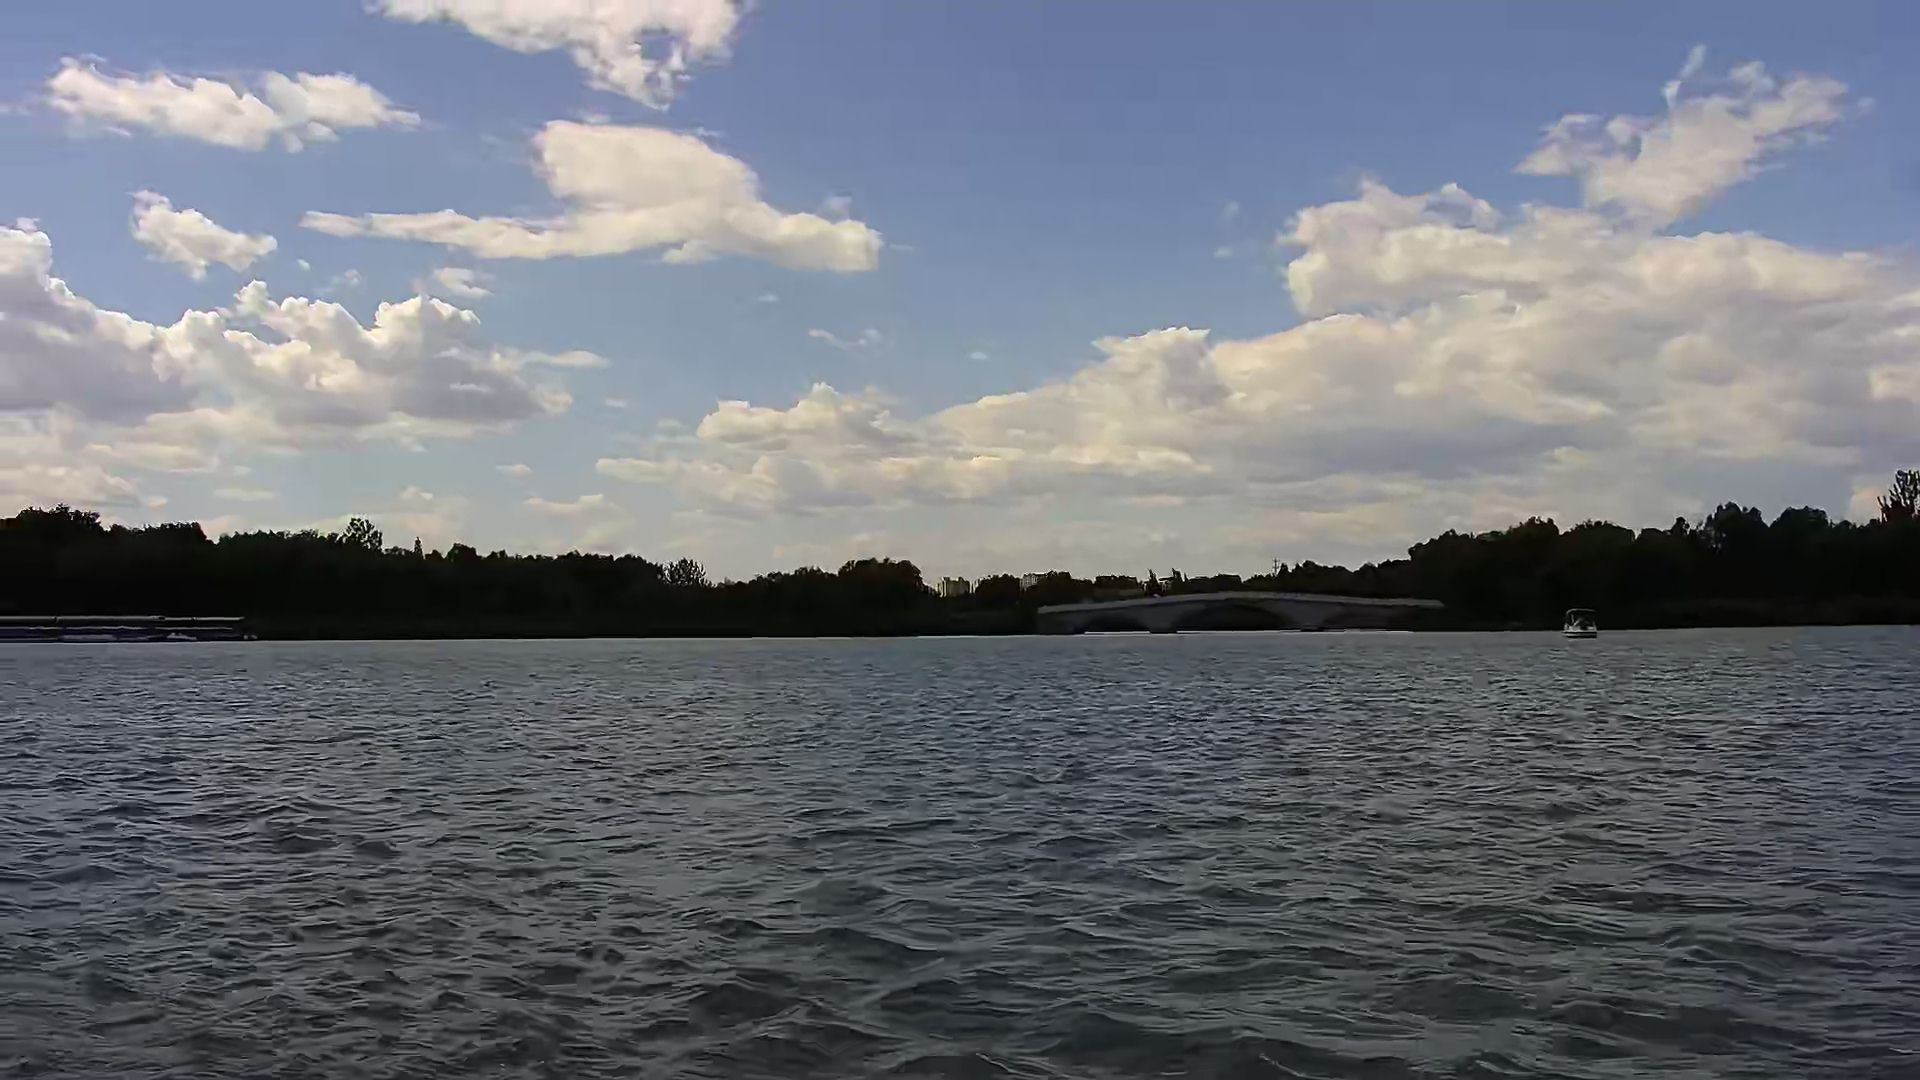boat: (1555, 597, 1613, 645)
bridge: (1023, 588, 1451, 641)
